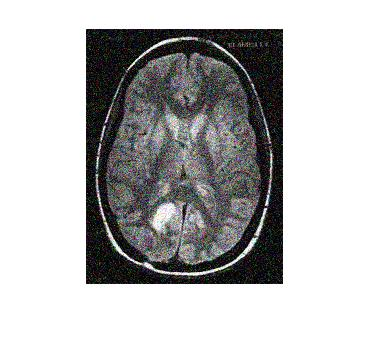Brain_Cancer: (145, 197, 181, 239)
